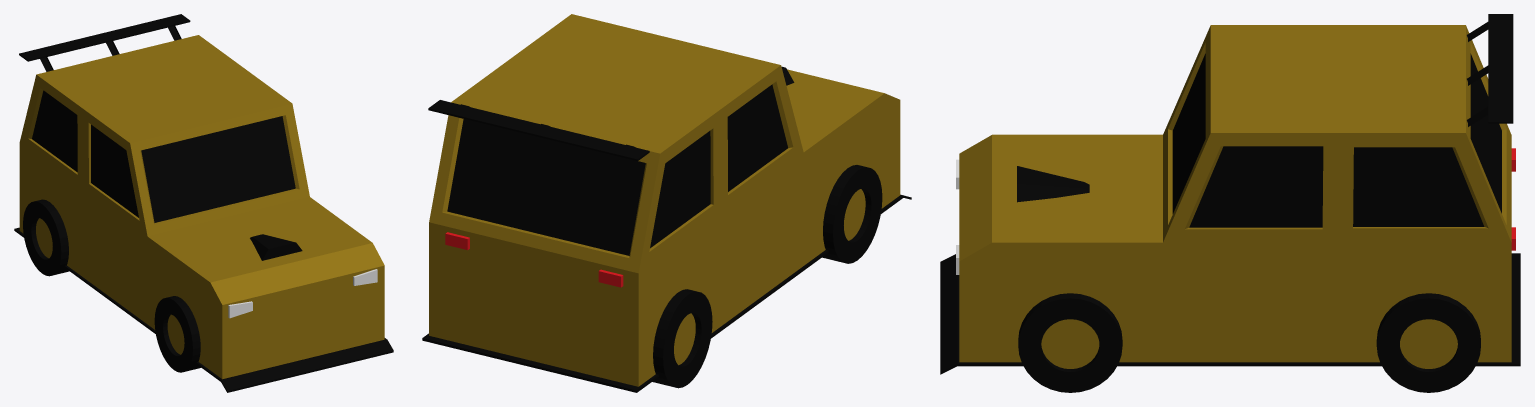
Rendered from GameJamObstacleCarAlt.fbx.
3 views of the same model, side by side, from view 1: azimuth 30°, elevation 25°; view 2: azimuth 150°, elevation 25°; view 3: azimuth 270°, elevation 25° (orthographic). The views are drawn at different scales.
Parts seen in each view (by area): view 1: Cube; view 2: Cube; view 3: Cube.
Part boxes in pixels (<box>): Cube: <box>14,14,393,392</box>; Cube: <box>422,14,911,392</box>; Cube: <box>940,14,1520,392</box>.
Bounding box in the file's own units: 219 × 230 × 455.
